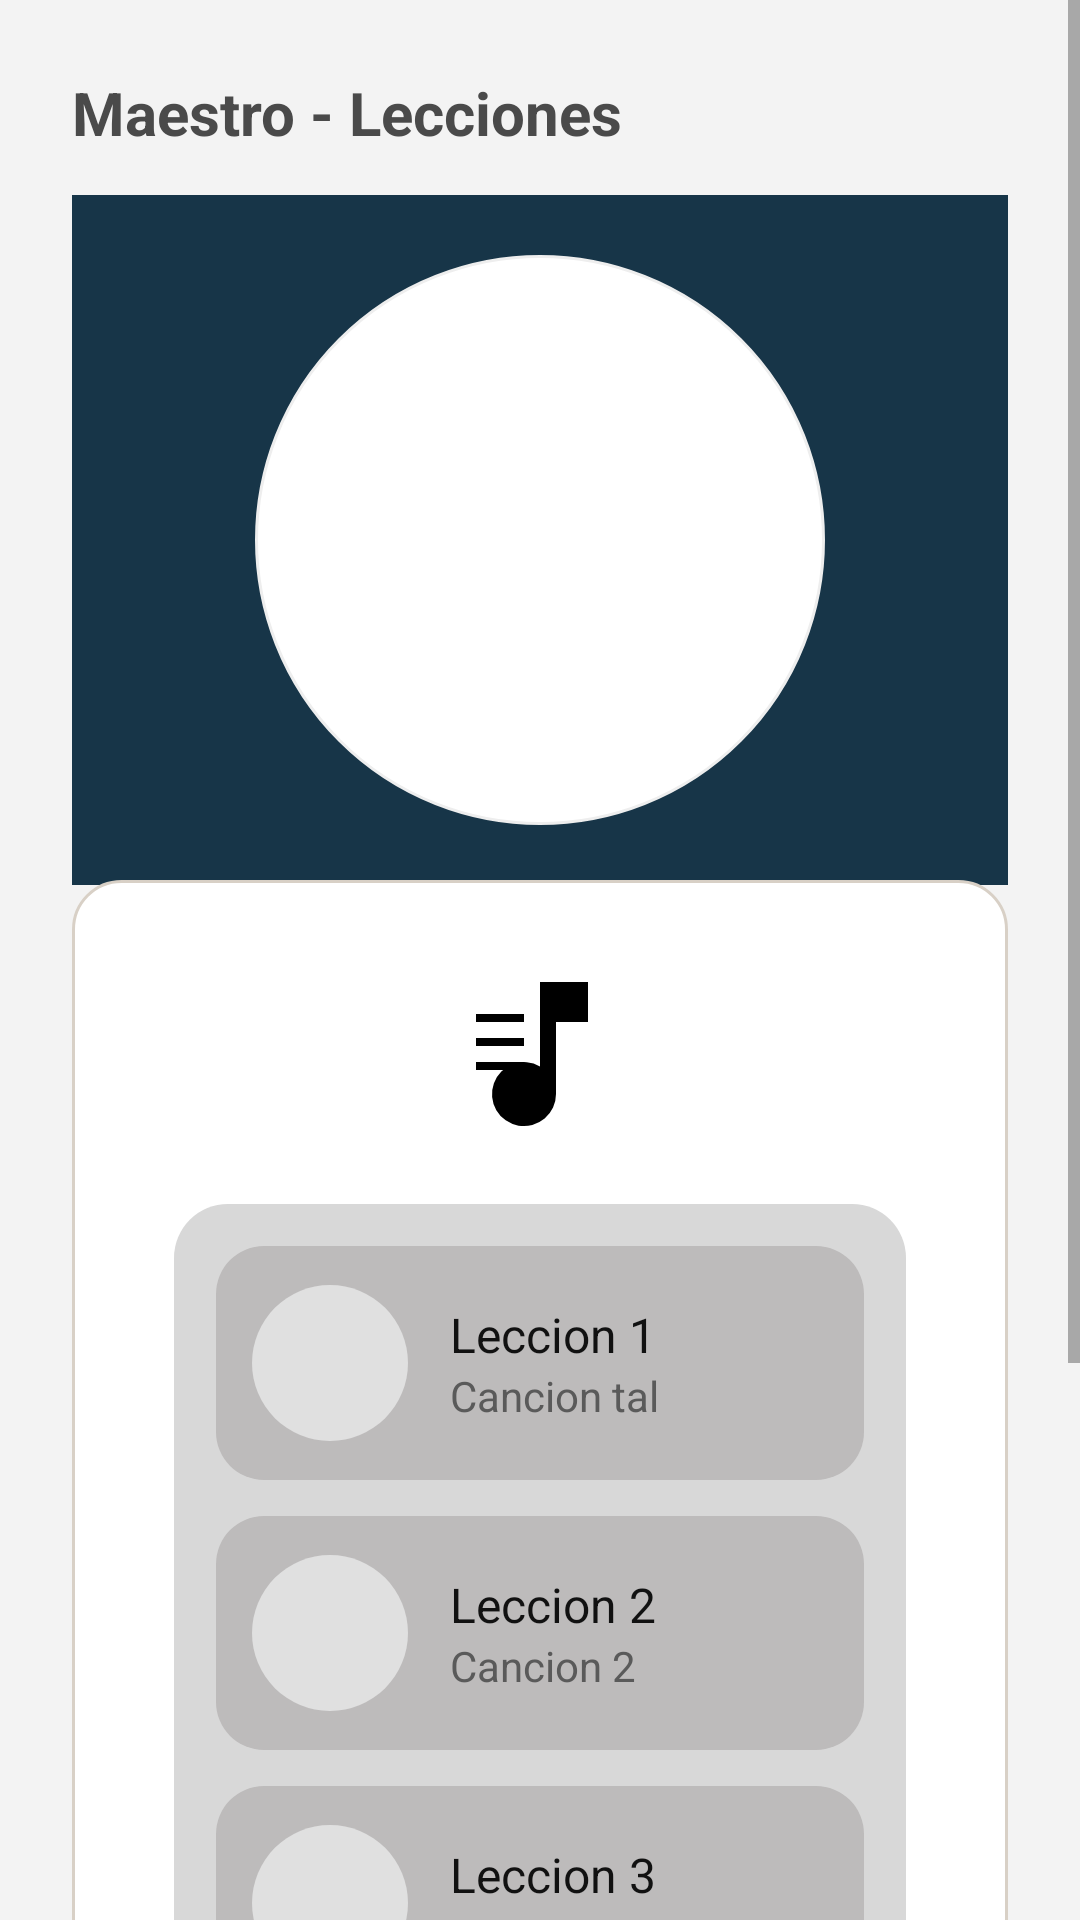

Locate icon controls on the screen. Image size 1080×1920, boxes as {"left": x1, "top": y1, "right": x2, "bottom": y2}.
Icono música: {"left": 476, "top": 982, "right": 588, "bottom": 1126}
